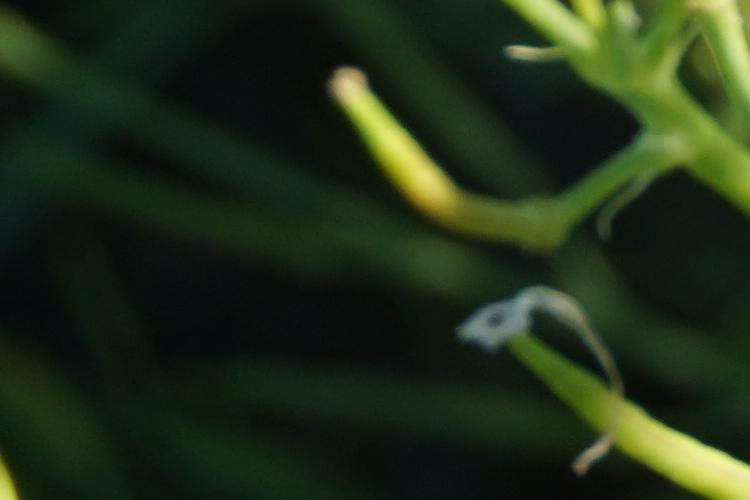pod: (304, 59, 504, 248)
